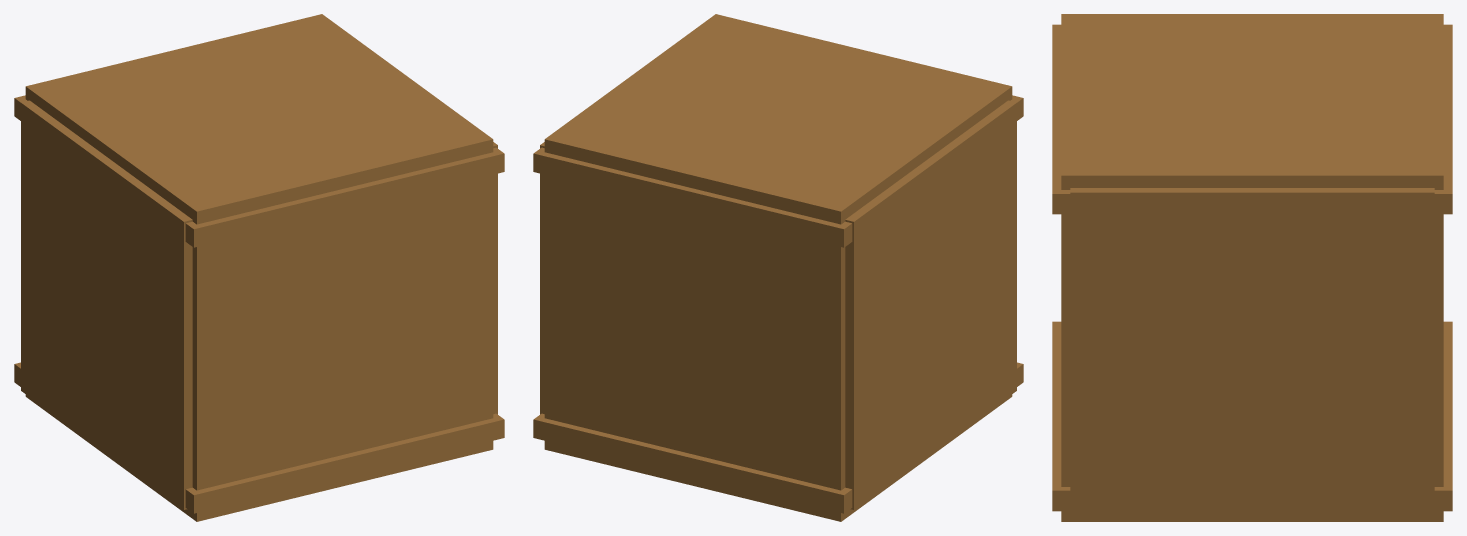
File: PRP_Crate.fbx
The picture shows the model from 3 angles, left to right: view 1: azimuth 30°, elevation 25°; view 2: azimuth 150°, elevation 25°; view 3: azimuth 270°, elevation 25°; orthographic projection. The views are drawn at different scales.
Parts seen in each view (by area): view 1: PRP_Crate__BODY; view 2: PRP_Crate__BODY; view 3: PRP_Crate__BODY.
Boxes of the visible parts, left/top/right/bottom form: PRP_Crate__BODY: left=14, top=14, right=504, bottom=521; PRP_Crate__BODY: left=533, top=14, right=1023, bottom=521; PRP_Crate__BODY: left=1052, top=14, right=1452, bottom=521.
Bounding box in the file's own units: 0.89 × 0.84 × 0.88.
